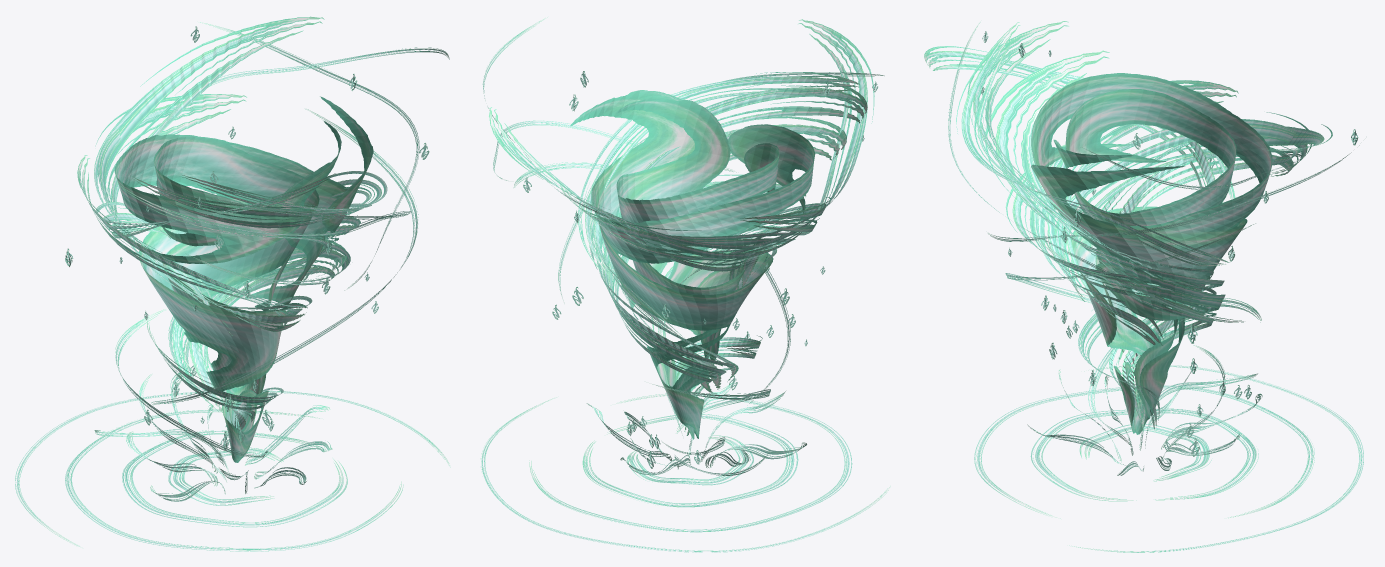
The model's file is tornado.obj.
The picture shows the model from 3 angles, left to right: view 1: azimuth 30°, elevation 25°; view 2: azimuth 150°, elevation 25°; view 3: azimuth 270°, elevation 25°; orthographic projection. The views are drawn at different scales.
Visible parts, largest first — view 1: FunnelCore_0, FunnelCore_1, Ribbon_1_8, Ribbon_1_4, Ribbon_1_2, Ribbon_1_10, Ribbon_1_3, ImpactRing_21, ImpactRing_22, Ribbon_1_5, Ribbon_2_12, Ribbon_1_6 (+11 smaller); view 2: FunnelCore_0, FunnelCore_1, Ribbon_1_6, Ribbon_1_3, Ribbon_1_9, Ribbon_1_8, Ribbon_1_2, Ribbon_1_4, ImpactRing_21, ImpactRing_22, Ribbon_1_1, Ribbon_1_10 (+9 smaller); view 3: FunnelCore_0, FunnelCore_1, Ribbon_1_2, Ribbon_1_6, Ribbon_1_4, Ribbon_1_3, Ribbon_1_10, Ribbon_1_8, Ribbon_1_1, ImpactRing_21, Ribbon_1_9, ImpactRing_22 (+10 smaller).
Boxes of the visible parts, left/top/right/bottom form: FunnelCore_0: left=114, top=96, right=373, bottom=462; FunnelCore_1: left=153, top=121, right=341, bottom=432; Ribbon_1_8: left=94, top=16, right=324, bottom=335; Ribbon_1_4: left=95, top=94, right=307, bottom=331; Ribbon_1_2: left=119, top=185, right=360, bottom=417; Ribbon_1_10: left=77, top=155, right=312, bottom=325; Ribbon_1_3: left=131, top=176, right=371, bottom=302; ImpactRing_21: left=122, top=430, right=347, bottom=527; ImpactRing_22: left=65, top=409, right=403, bottom=551; Ribbon_1_5: left=177, top=244, right=350, bottom=381; Ribbon_2_12: left=151, top=109, right=418, bottom=405; Ribbon_1_6: left=182, top=171, right=387, bottom=213; FunnelCore_0: left=570, top=90, right=815, bottom=438; FunnelCore_1: left=616, top=98, right=779, bottom=439; Ribbon_1_6: left=578, top=72, right=859, bottom=277; Ribbon_1_3: left=591, top=80, right=867, bottom=342; Ribbon_1_9: left=674, top=19, right=874, bottom=288; Ribbon_1_8: left=489, top=107, right=776, bottom=289; Ribbon_1_2: left=589, top=116, right=846, bottom=392; Ribbon_1_4: left=560, top=185, right=810, bottom=260; ImpactRing_21: left=582, top=414, right=798, bottom=507; ImpactRing_22: left=529, top=393, right=852, bottom=532; Ribbon_1_1: left=598, top=248, right=734, bottom=435; Ribbon_1_10: left=651, top=197, right=830, bottom=337; FunnelCore_0: left=1031, top=73, right=1272, bottom=433; FunnelCore_1: left=1053, top=89, right=1236, bottom=434; Ribbon_1_2: left=985, top=50, right=1224, bottom=375; Ribbon_1_6: left=956, top=22, right=1229, bottom=266; Ribbon_1_4: left=1043, top=112, right=1311, bottom=301; Ribbon_1_3: left=967, top=21, right=1213, bottom=290; Ribbon_1_10: left=1038, top=80, right=1238, bottom=345; Ribbon_1_8: left=1089, top=124, right=1332, bottom=269; Ribbon_1_1: left=1039, top=236, right=1225, bottom=432; ImpactRing_21: left=1030, top=408, right=1258, bottom=501; Ribbon_1_9: left=924, top=46, right=1235, bottom=202; ImpactRing_22: left=974, top=385, right=1314, bottom=518.
Size of the model in its own units: 6.36 by 6.32 by 6.29.
Materials: 1 (1 with a texture image).
